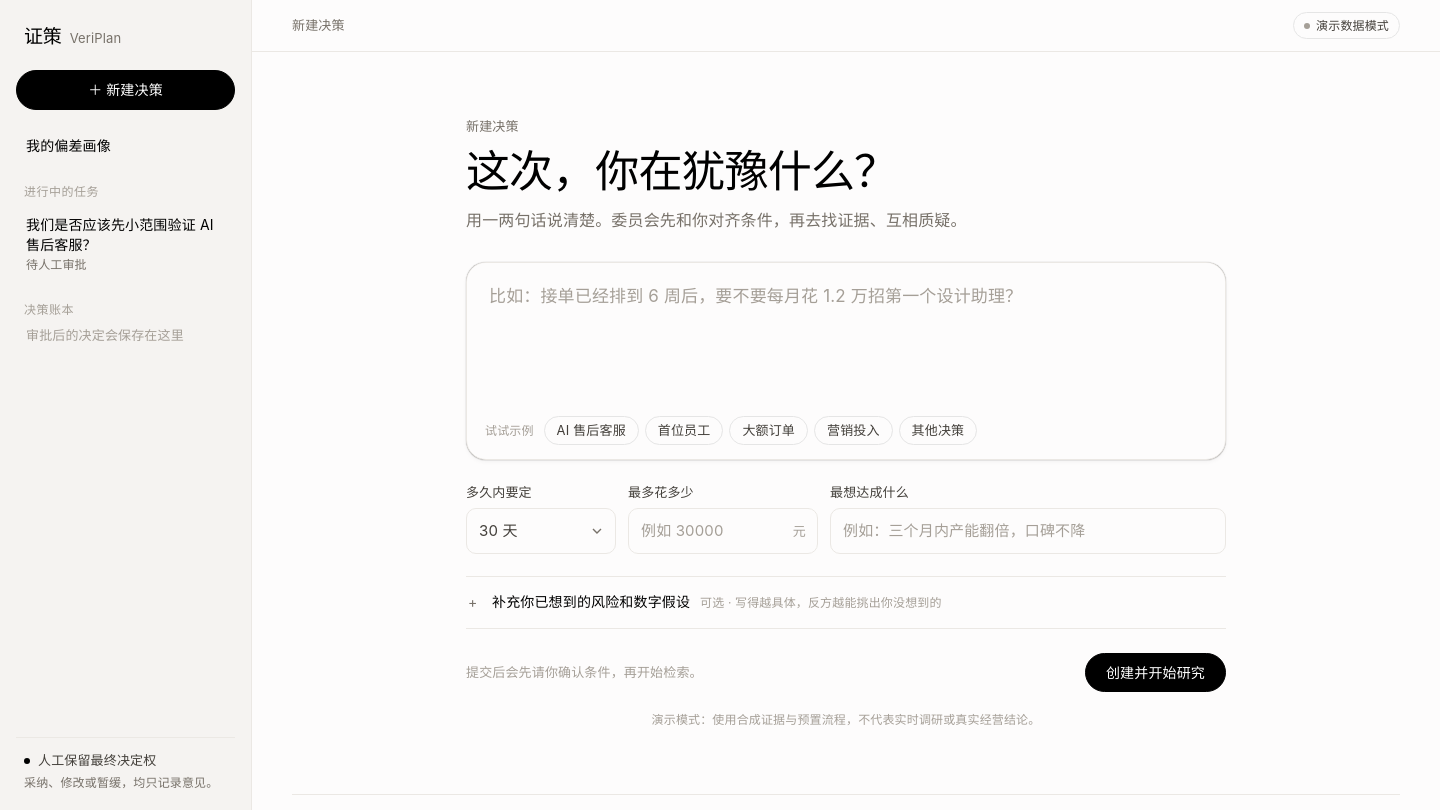
decision workspace › records a human review and restores it from the ledger
Click the button "我们是否应该先小范围验证 AI 售后客服？ 待人工审批" at (126, 244), box [16,207,235,282]
(page scrolled)
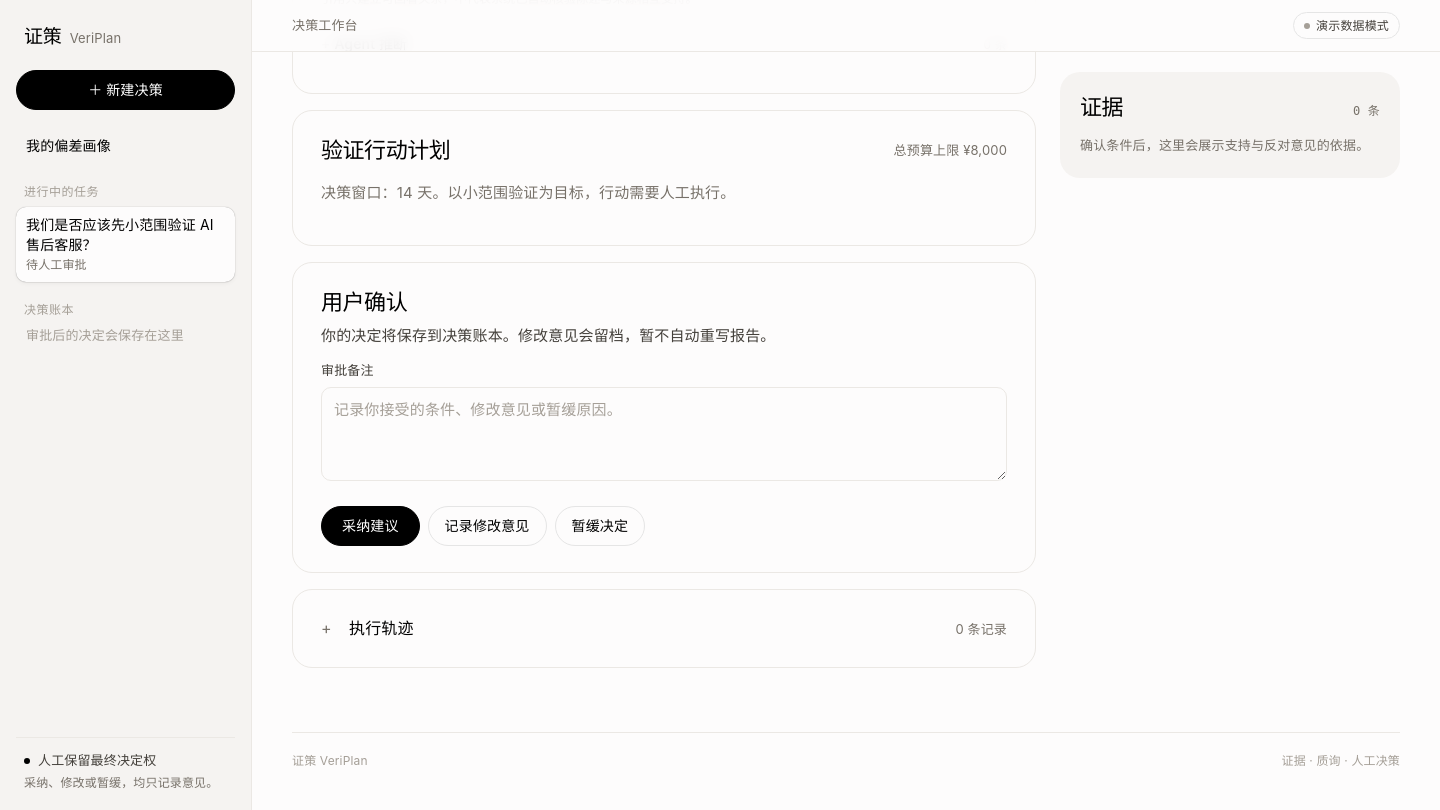
Expected: the button "采纳建议" is shown, [321,506,420,546]
Type "仅同意人工复核的试点" into the text box labelled "审批备注" at (664, 434), box [321,387,1007,481]
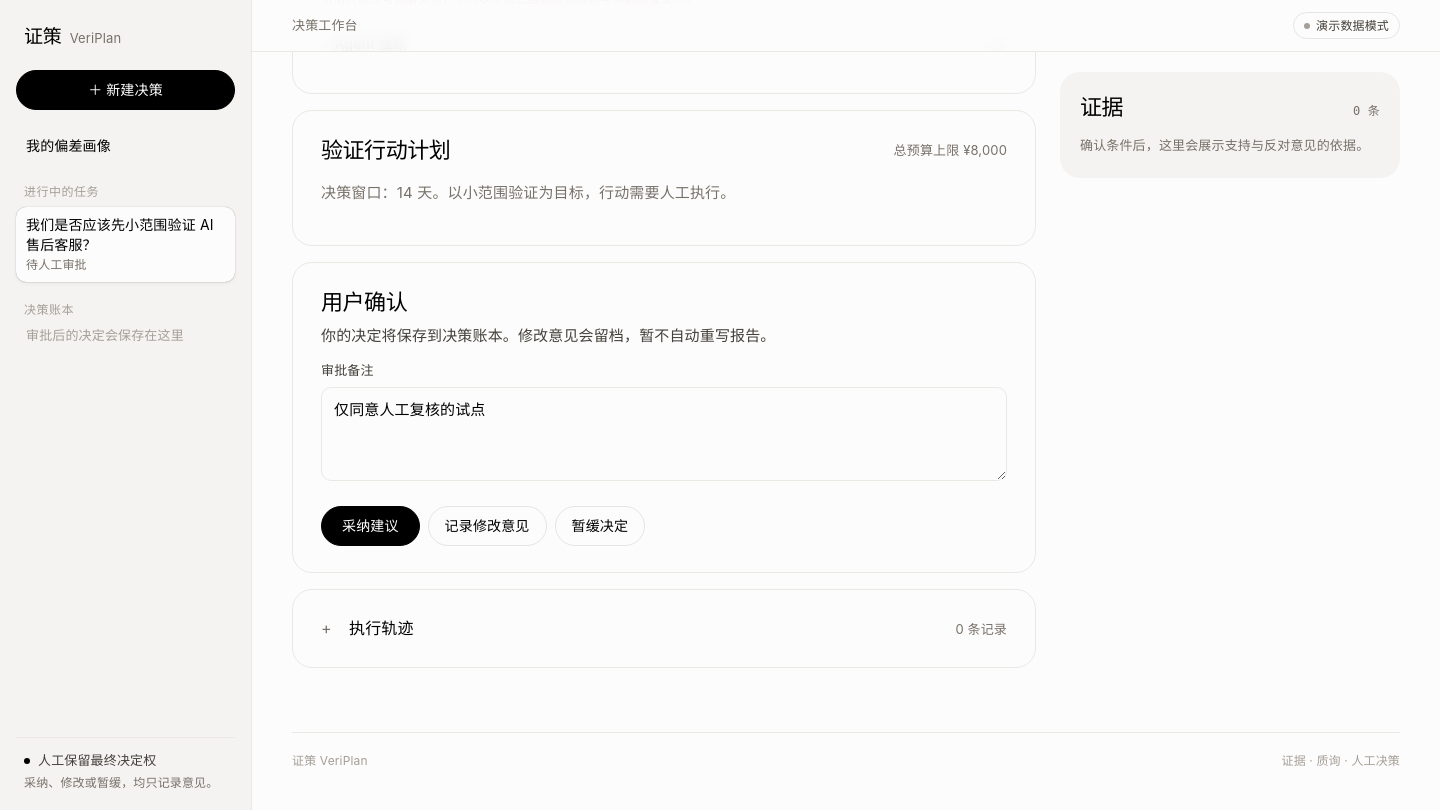
Click the button "采纳建议" at (370, 526), box [321,506,420,546]
(page scrolled)
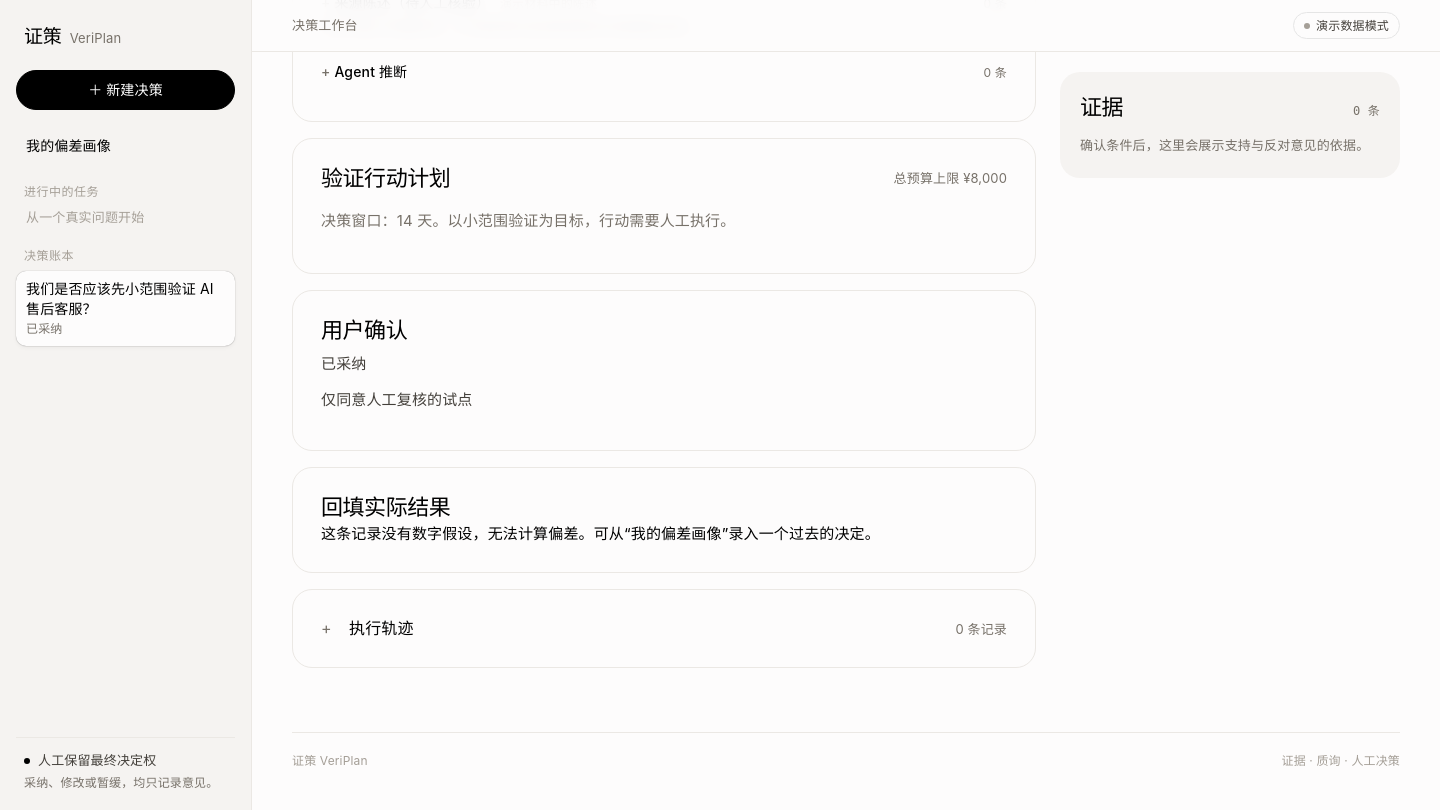
Expected: the text "仅同意人工复核的试点" is shown, [321,390,472,409]
Expected: the button "采纳建议" is gone
Click the button "＋ 新建决策" at (126, 90), box [16,70,235,110]
(page scrolled)
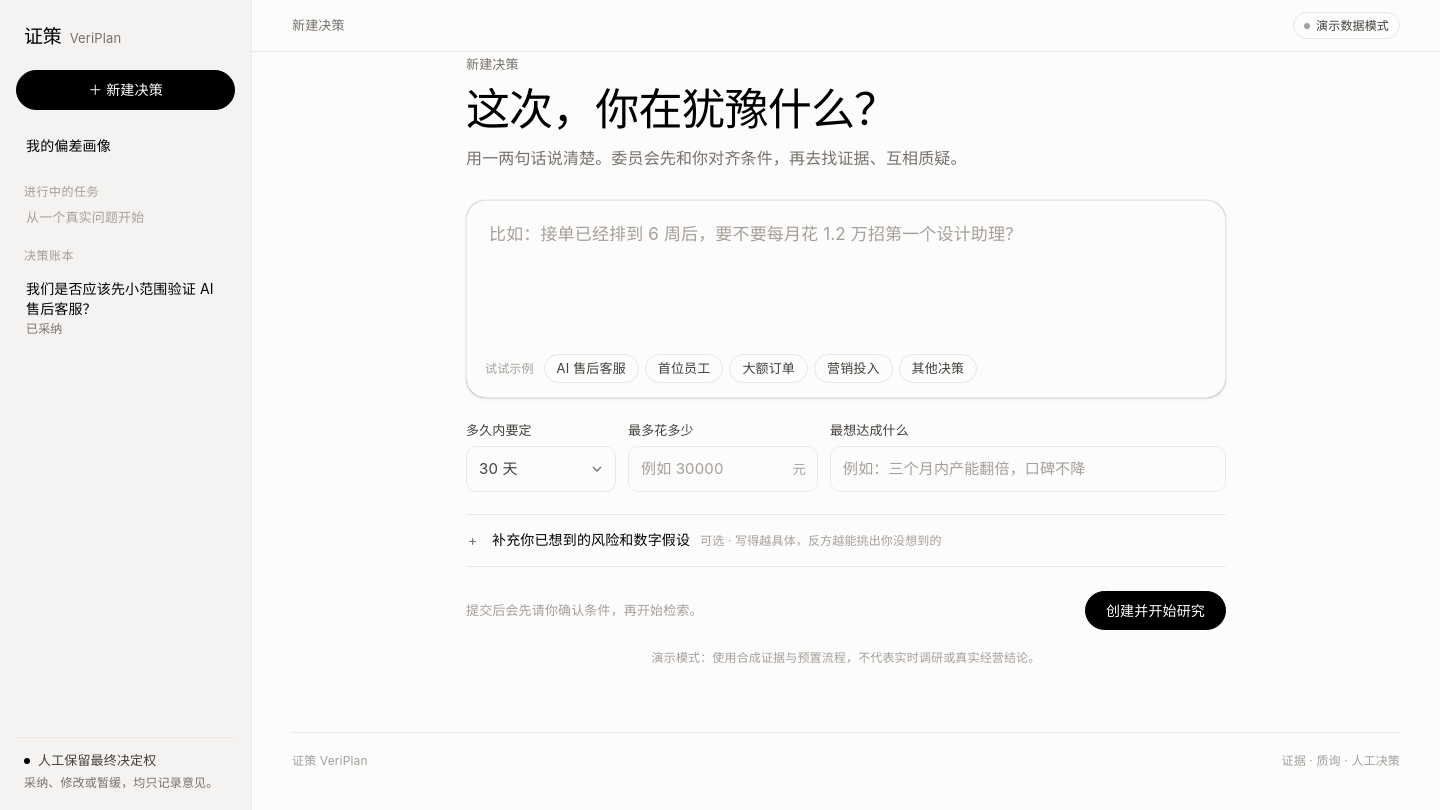
Click the button "我们是否应该先小范围验证 AI 售后客服？ 已采纳" at (126, 308), box [16,270,235,346]
(page scrolled)
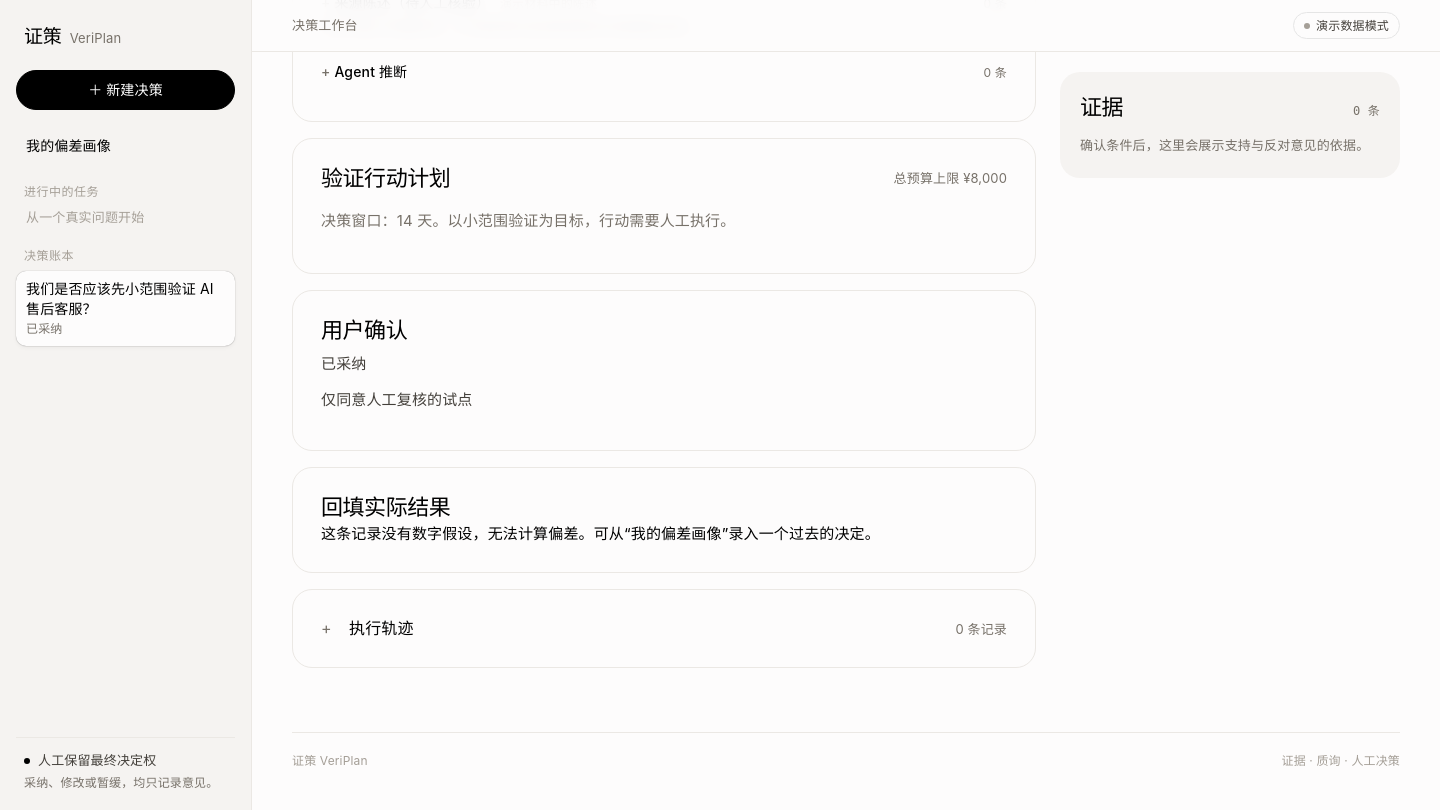
Expected: the text "仅同意人工复核的试点" is shown, [321,390,472,409]
